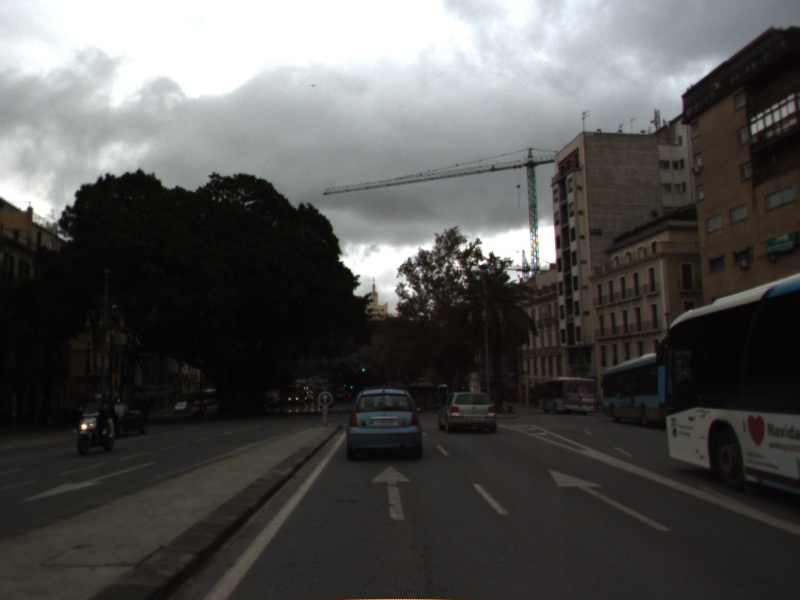STRAIGHT: (546, 467, 674, 534), (369, 463, 414, 523)
